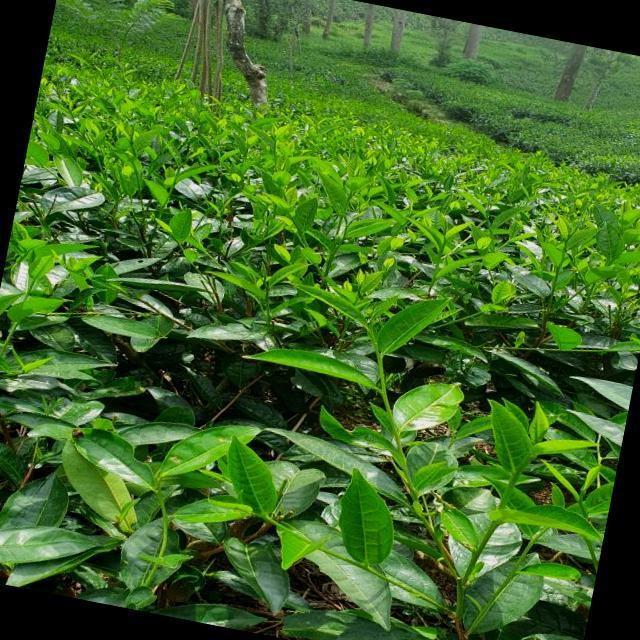Stem: (377, 355, 382, 362)
